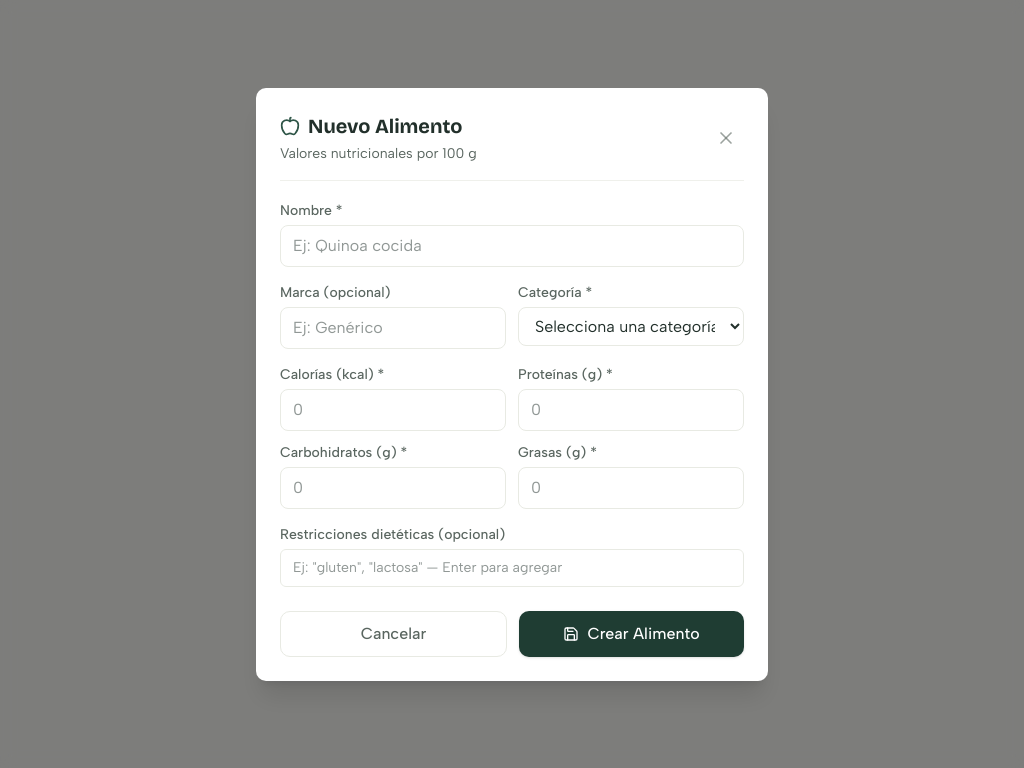
it: ModalNuevoAlimento › handleGuardar — validaciones › campo nutricional vacío muestra error con el nombre del campo
Type "Atún" into the field with placeholder "Ej: Quinoa cocida".
click(512, 246); type("Atún")  # box [280, 224, 744, 266]
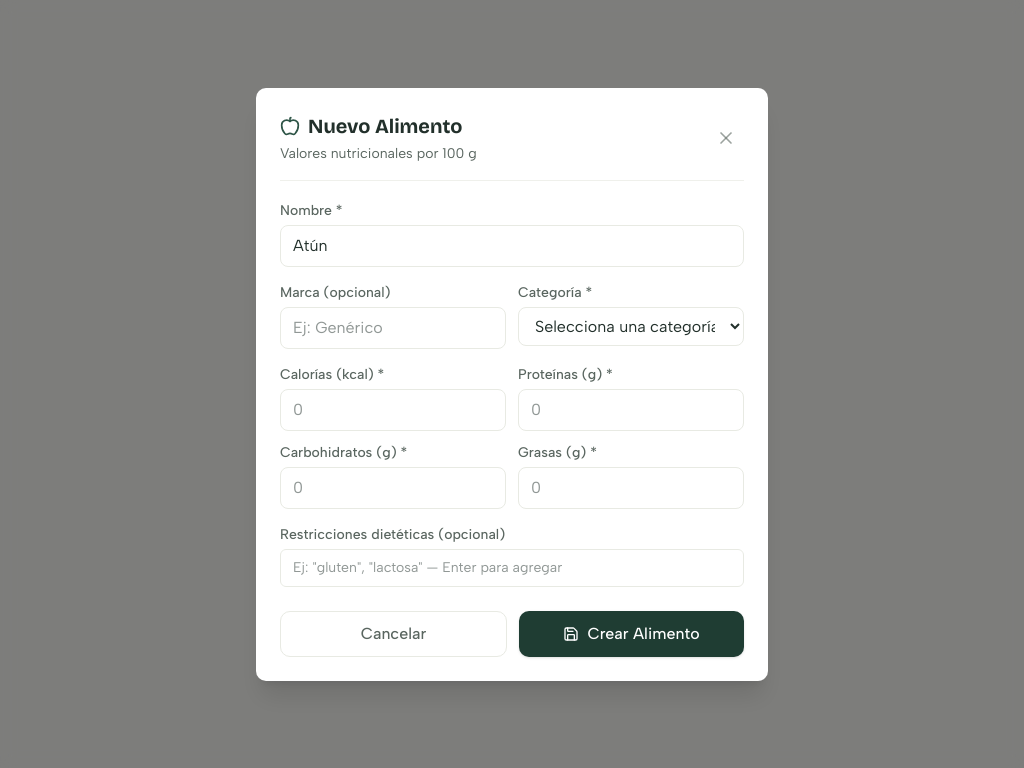
Select "Cereales" in the dropdown showing "Selecciona una categoría" at (631, 326), box [518, 306, 744, 346]
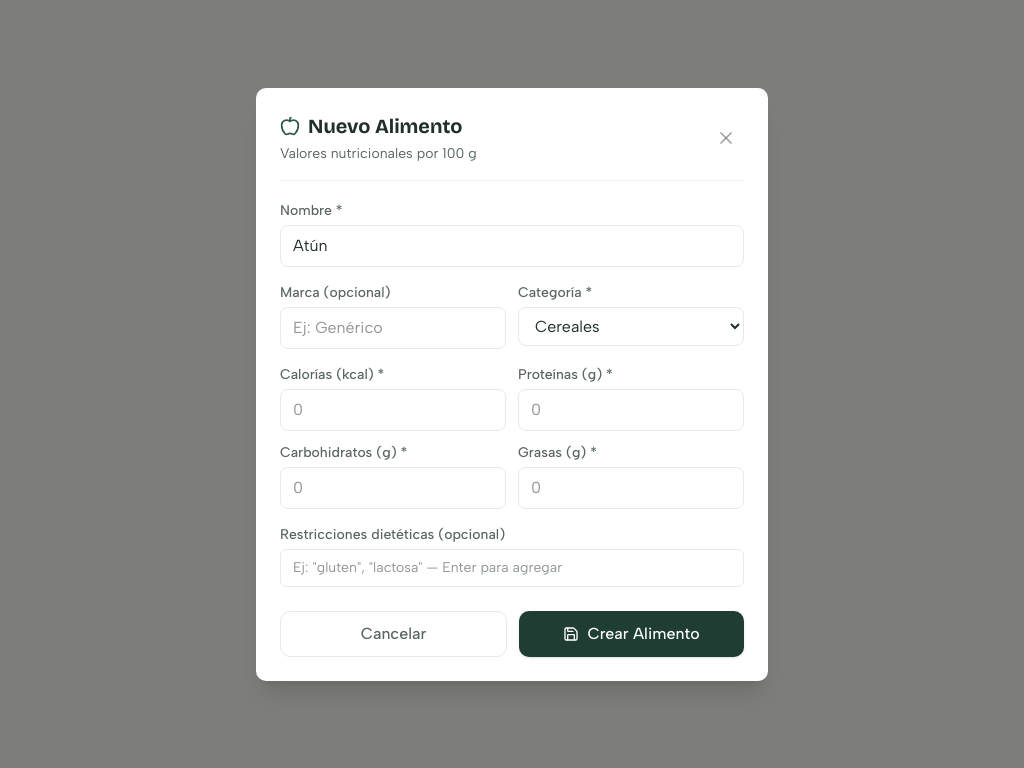
Note: dejar calorias_100g vacío
Click the button "Crear Alimento".
click(632, 634)  # box [519, 610, 744, 656]
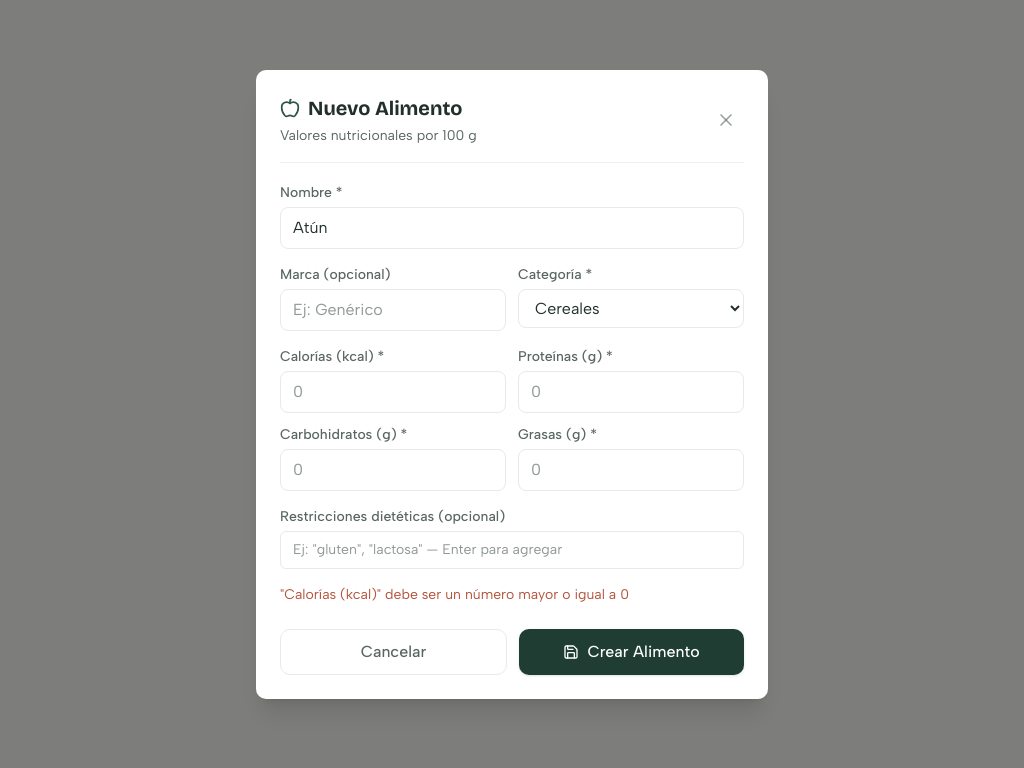
Expected: the message shows "Calorías (kcal)", [280, 586, 629, 602]
